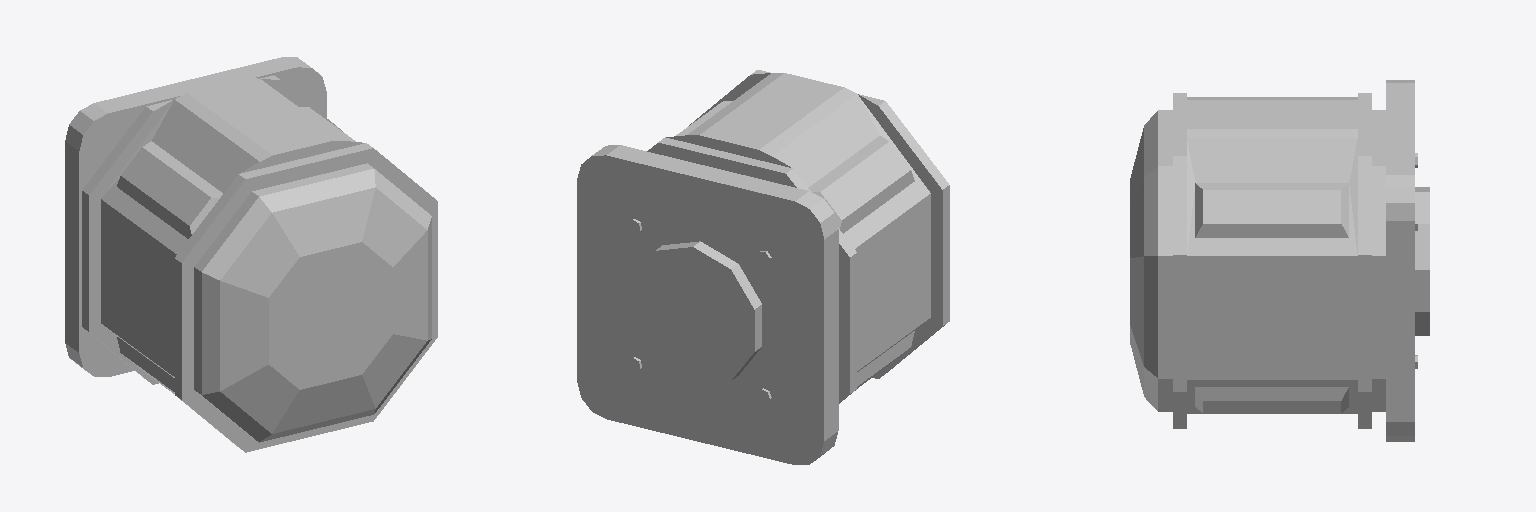
File: obj_scriptableController.obj
The picture shows the model from 3 angles: view 1: azimuth 30°, elevation 25°; view 2: azimuth 150°, elevation 25°; view 3: azimuth 270°, elevation 25°; orthographic projection.
Visible parts, largest first — view 1: Cube; view 2: Cube; view 3: Cube.
Boxes of the visible parts, x1,y1,x2,y2 form: Cube: [65, 57, 437, 452]; Cube: [577, 70, 949, 464]; Cube: [1130, 80, 1429, 441].
Size of the model in its own units: 1.96 by 2.07 by 1.98.